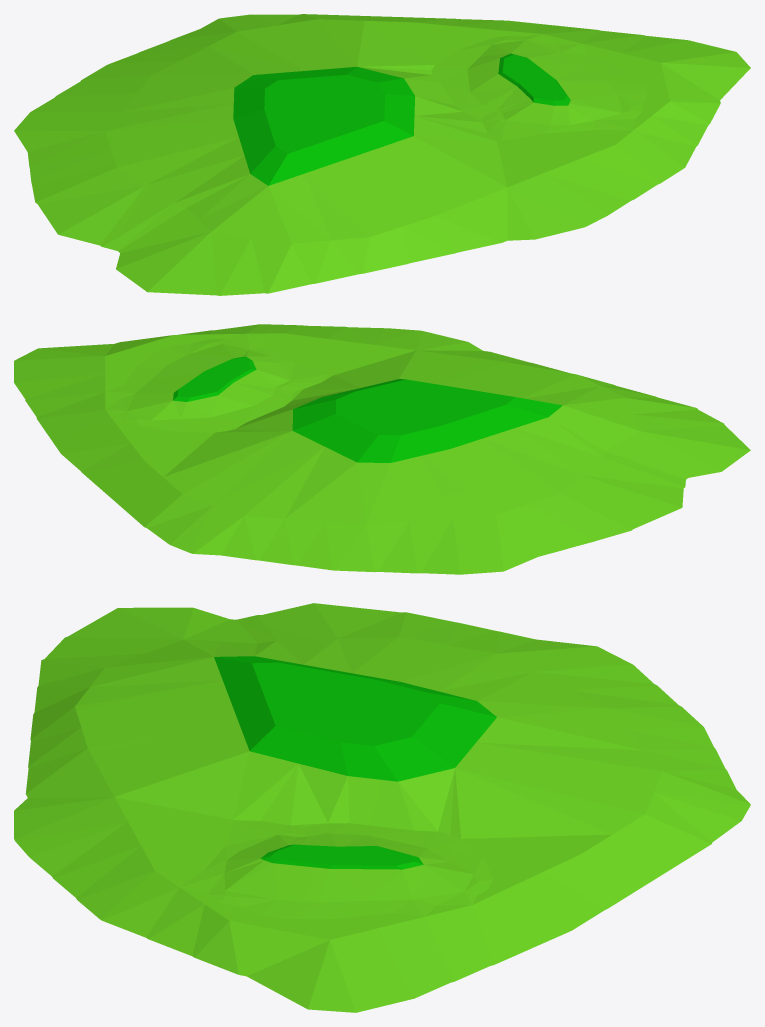
Rendered from Verdant.fbx.
The picture shows the model from 3 angles, top to bottom: view 1: azimuth 30°, elevation 25°; view 2: azimuth 150°, elevation 25°; view 3: azimuth 270°, elevation 25°; orthographic projection. The views are drawn at different scales.
Visible parts, largest first — view 1: Terrain_Verdant_Grass_Hill_03.001, Terrain_Verdant_Grass_Hill_03; view 2: Terrain_Verdant_Grass_Hill_03.001, Terrain_Verdant_Grass_Hill_03; view 3: Terrain_Verdant_Grass_Hill_03.001, Terrain_Verdant_Grass_Hill_03.
Boxes of the visible parts, x1,y1,x2,y2 form: Terrain_Verdant_Grass_Hill_03.001: (14,14,750,295); Terrain_Verdant_Grass_Hill_03: (233,53,570,185); Terrain_Verdant_Grass_Hill_03.001: (14,324,750,574); Terrain_Verdant_Grass_Hill_03: (173,356,562,462); Terrain_Verdant_Grass_Hill_03.001: (14,603,750,1012); Terrain_Verdant_Grass_Hill_03: (214,656,496,869).
Bounding box in the file's own units: 6815 × 465 × 5181.
